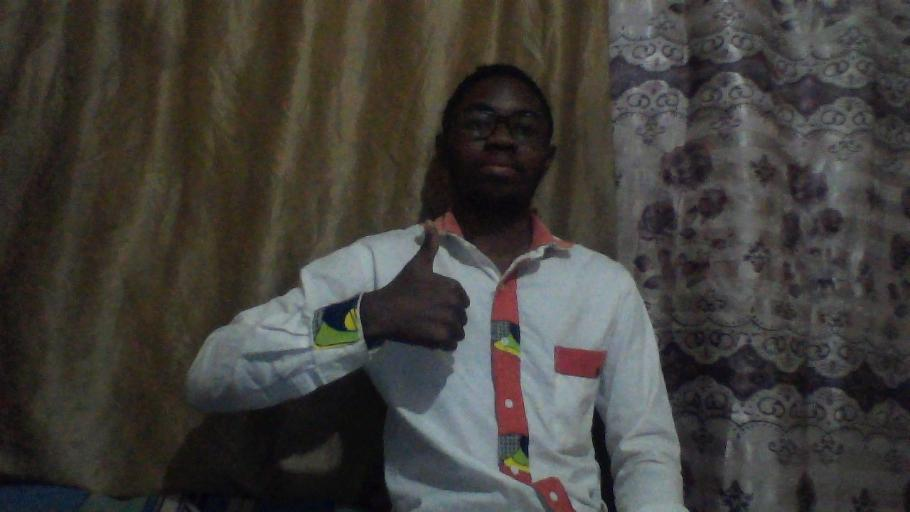like: (378, 218, 471, 351)
